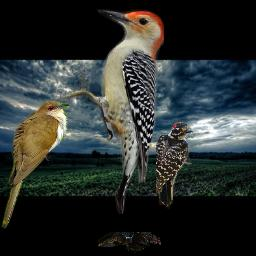Crow: (98, 232, 161, 254)
Cuckoo: (1, 100, 70, 229)
Woodpecker: (60, 9, 164, 214), (156, 121, 193, 209)
